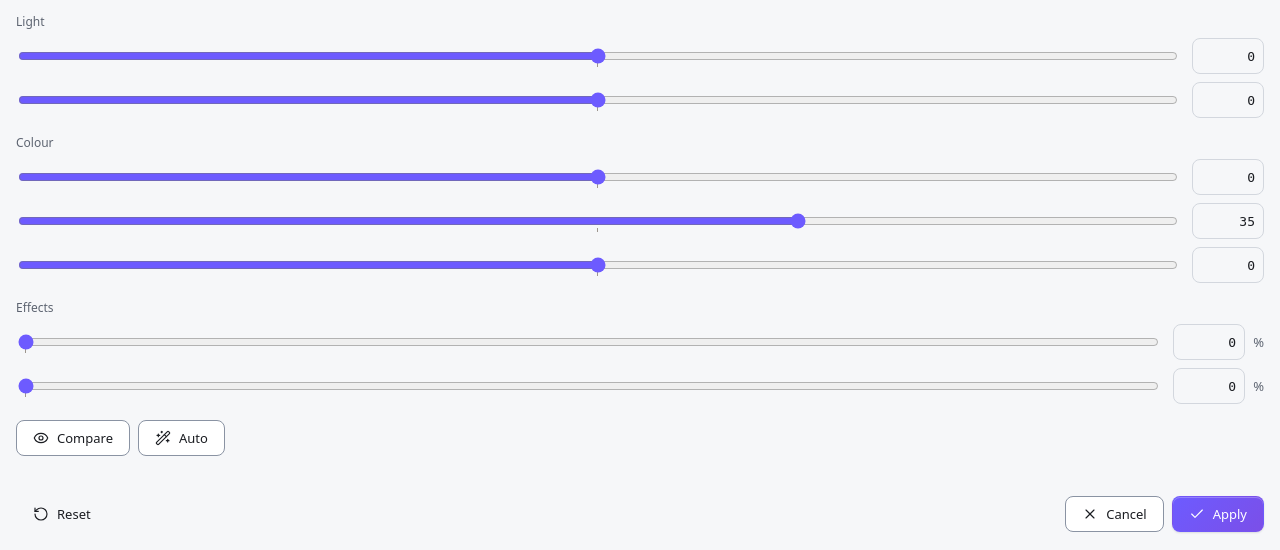
Test: AdjustControls (SCR-03) › Auto (AC-12, AC-13) › shows the four values it found in their sliders and fields (AC-12)
Click the button "Auto": (181, 438) [138,420,225,456]
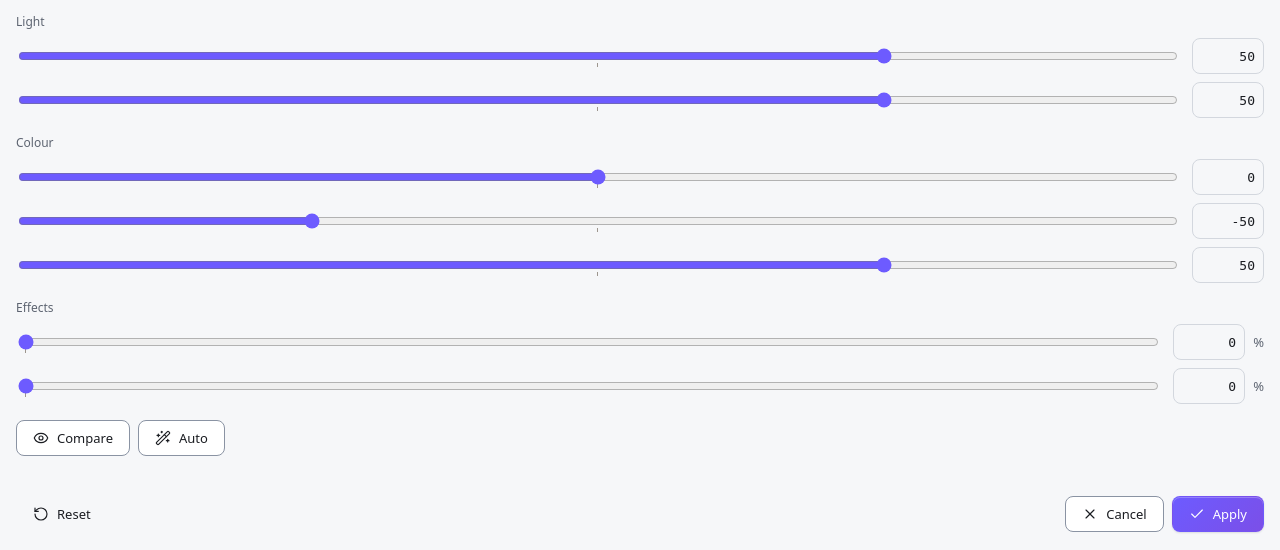
Result: the 1st field holds "50" at [1192,38,1264,74]
Result: the 2nd field holds "50" at [1192,82,1264,118]
Result: the 4th field holds "-50" at [1192,203,1264,239]
